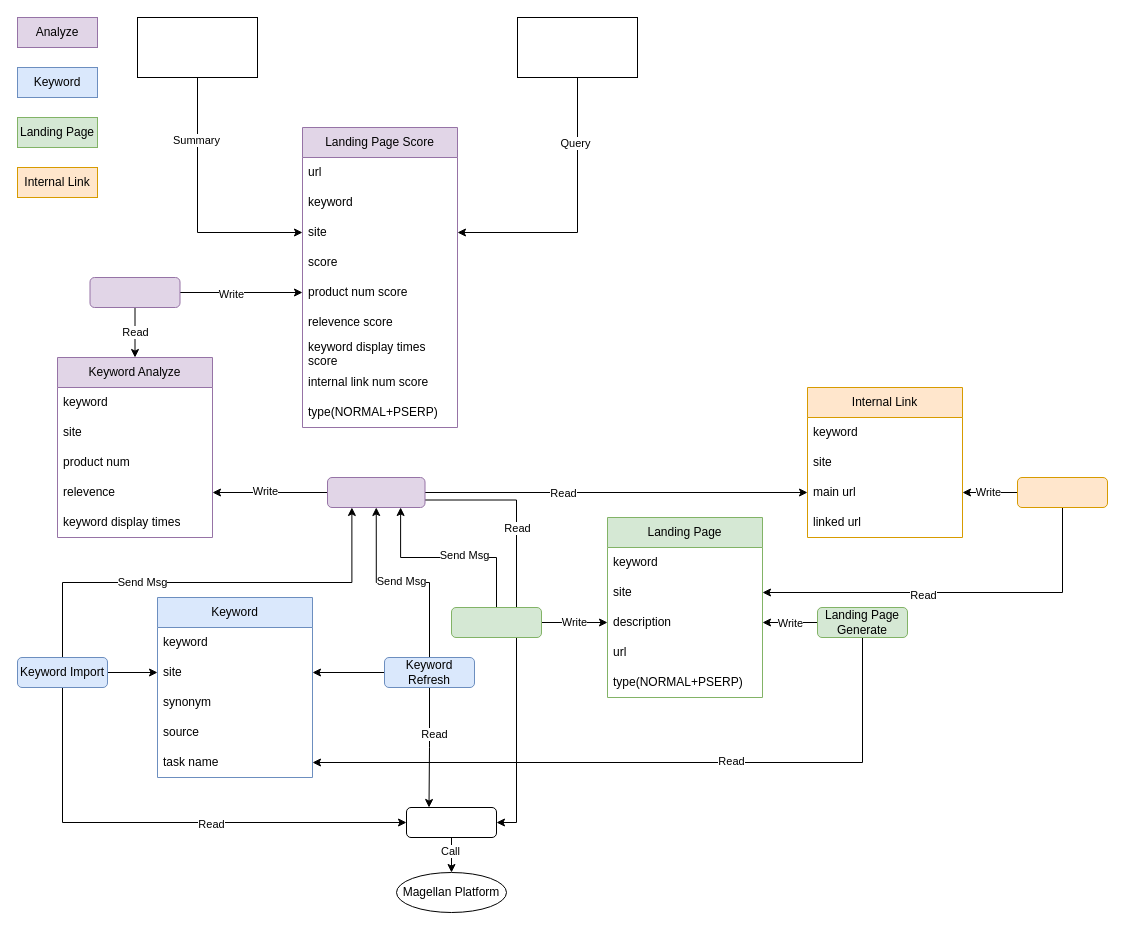
Some shapes in this 1125 by 930 pixel diagram are drawn without their labels. The centre of each missing label's shape, as x and y in pixels:
Internal Link Build: pixel 1062 492
Keyword Analyze Refresh: pixel 375 492
Landing Page Overall Score: pixel 197 47
Landing Page Score Detail: pixel 577 47
Landing Page Score Refresh: pixel 134 292
Product List: pixel 451 822
PSERP Import: pixel 496 622
